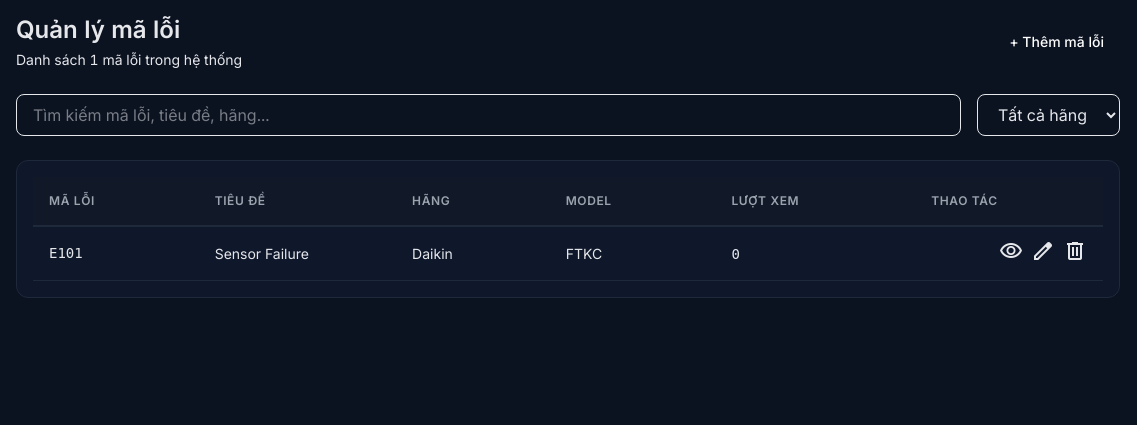
Scenario: ErrorList › should filter errors
Check: the text "E101" is shown, box [33, 226, 199, 280]
Type "Daikin" into the field with placeholder "Tìm kiếm mã lỗi, tiêu đề, hãng..." at (488, 115), box [16, 94, 961, 136]
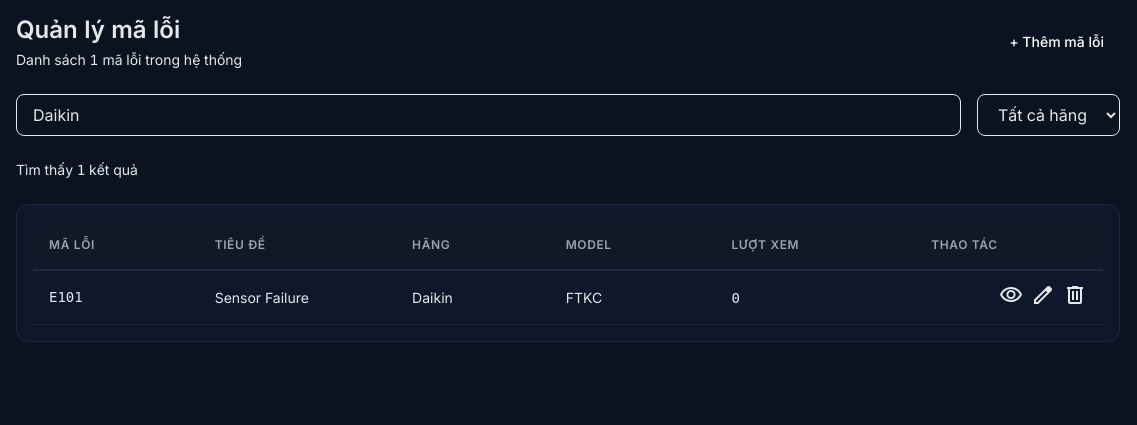
Check: the text "E101" is shown, box [33, 270, 199, 324]
Replace the text in the field with placeholder "Tìm kiếm mã lỗi, tiêu đề, hãng..." with "Panasonic" at (488, 115), box [16, 94, 961, 136]
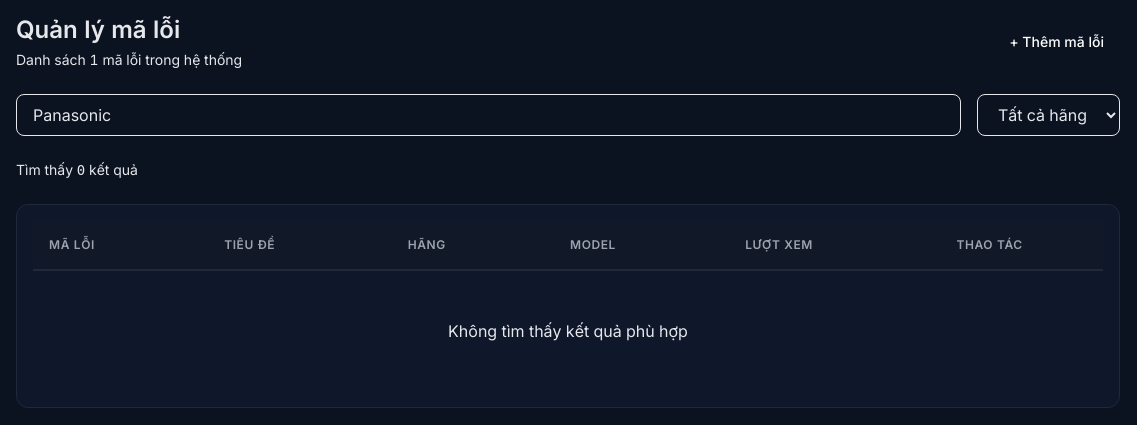
Check: the text "E101" is gone
